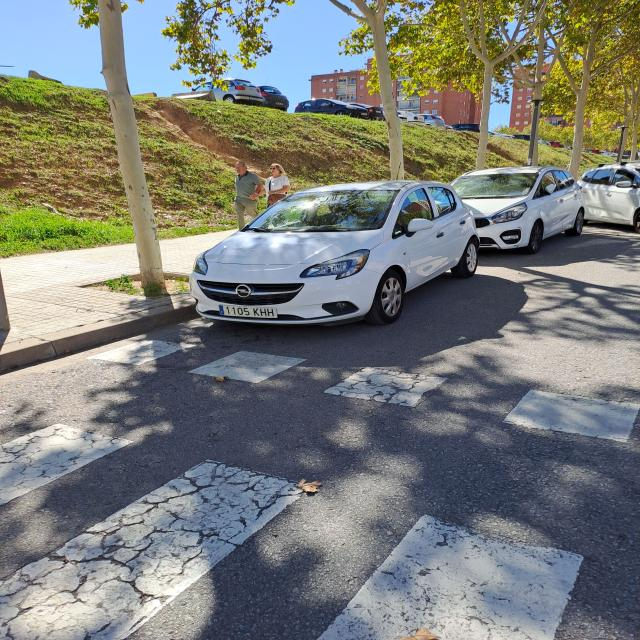license_plate-34Td: (221, 305, 277, 319)
